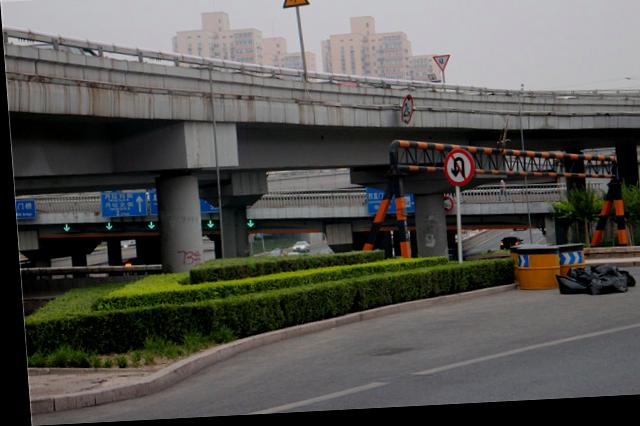not_u_turn_left: (441, 151, 471, 190)
